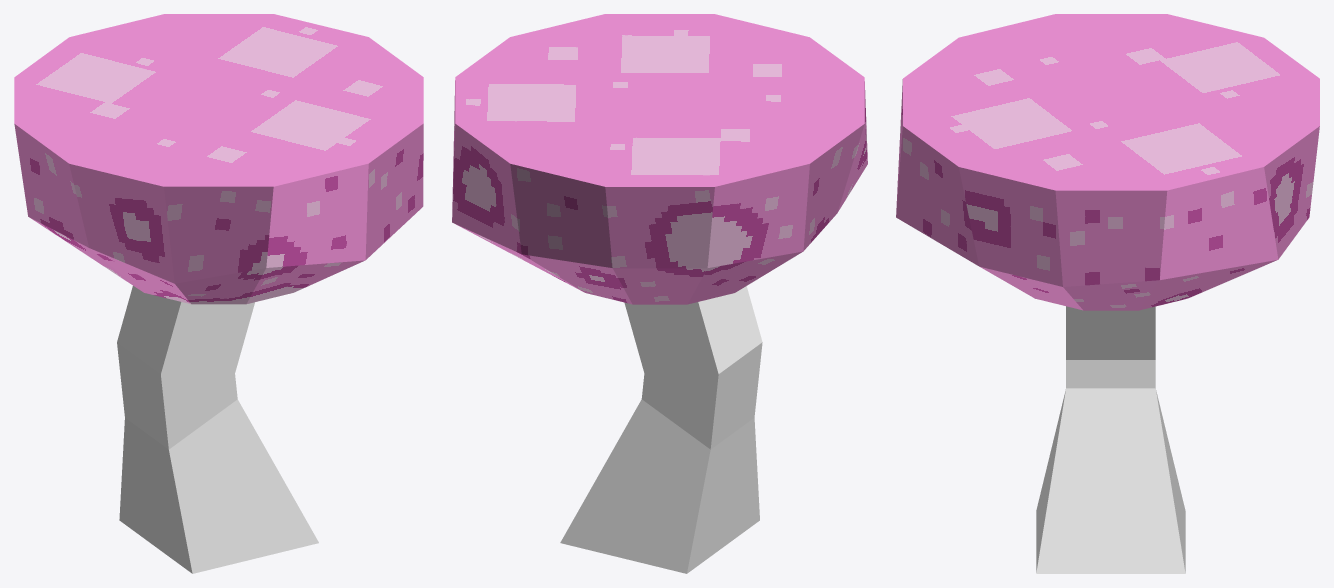
File: coral_pink(1).gltf
The picture shows the model from 3 angles, left to right: view 1: azimuth 30°, elevation 25°; view 2: azimuth 150°, elevation 25°; view 3: azimuth 270°, elevation 25°; orthographic projection. The views are drawn at different scales.
Parts seen in each view (by area): view 1: sphere, cuboid; view 2: sphere, cuboid; view 3: sphere, cuboid.
Boxes of the visible parts, <box> form: sphere: <box>14,14,423,304</box>; cuboid: <box>117,286,318,573</box>; sphere: <box>452,14,867,304</box>; cuboid: <box>560,286,762,573</box>; sphere: <box>896,14,1319,310</box>; cuboid: <box>1036,306,1185,573</box>.
Bounding box in the file's own units: 1.77 × 2.03 × 1.77.
2 materials, 2 textured.
